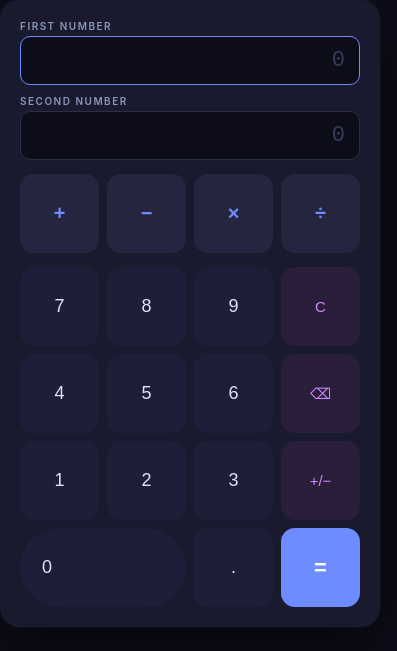
Test: Integration — multiplication › shows Multiplicand / Multiplier labels for multiplication
The image size is (397, 651).
What coordinates should you click on to do the following:
click the button with test id "op-multiply"
I would click on:
 (234, 214)
Its box is [194,174,273,253].
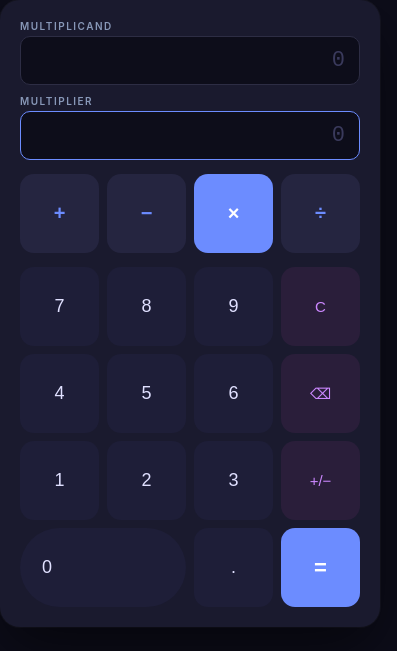
Expected: the field labelled "Multiplicand" is shown, [20,36,360,85]
Expected: the field labelled "Multiplier" is shown, [20,111,360,160]
